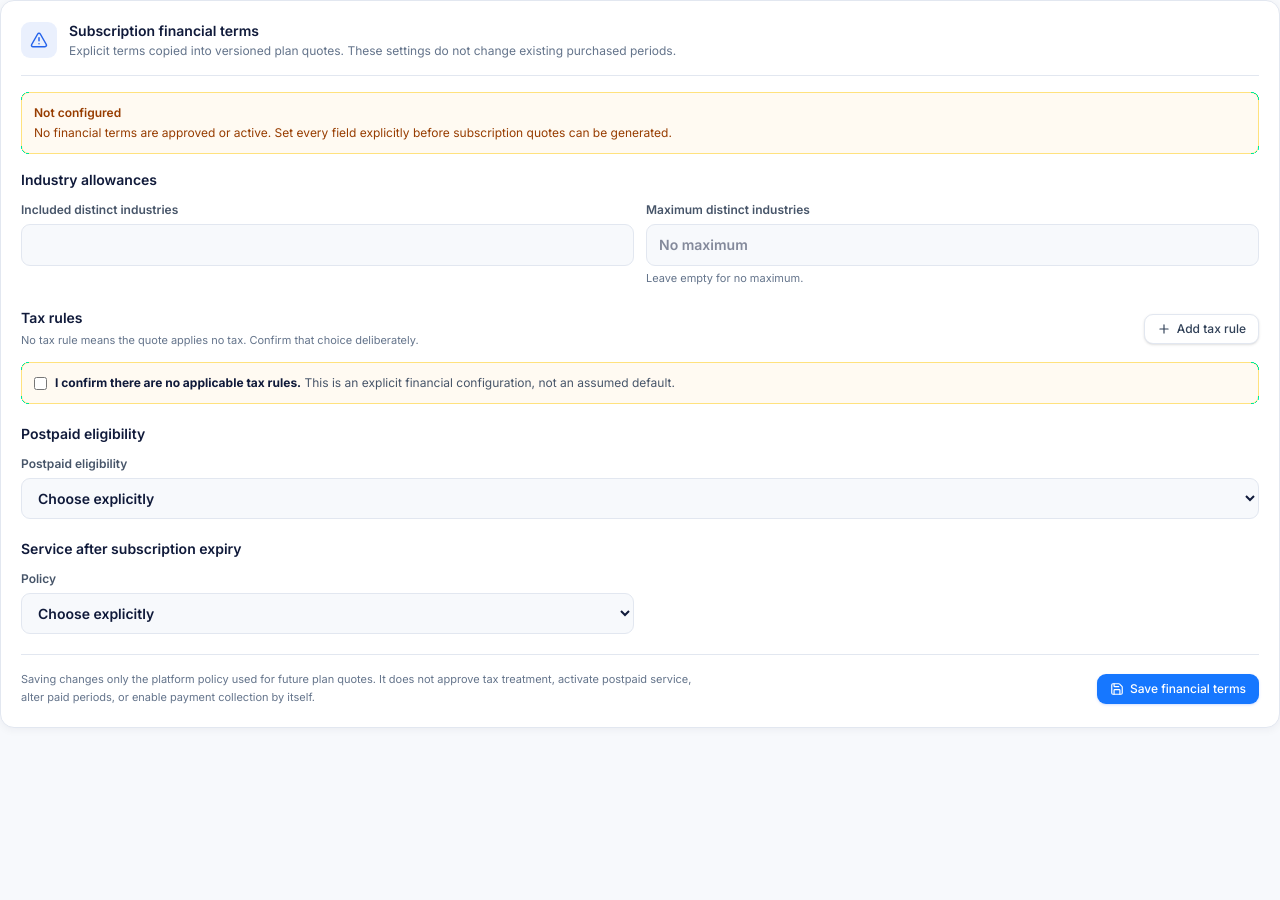
subscription terms policy editor › requires a finite exposure limit or explicit unlimited choice when postpaid is eligible
Check: the text "Not configured" is shown, box [34,105,121,120]
Type "1" into the number field labelled "Included distinct industries" at (328,245), box [21,224,634,266]
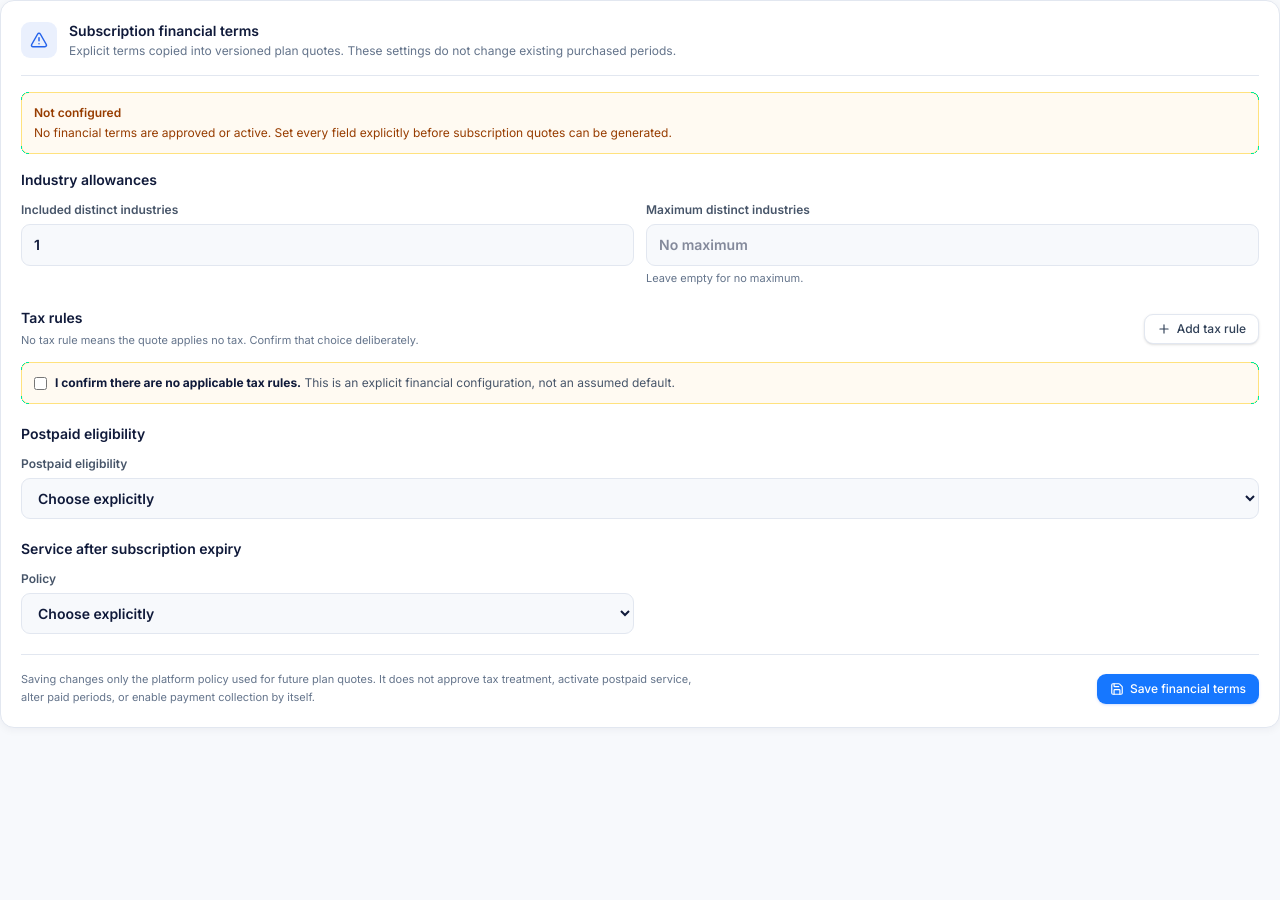
Select "Suspend at expiry" in the dropdown labelled "Policy" at (328,613), box [21,593,634,634]
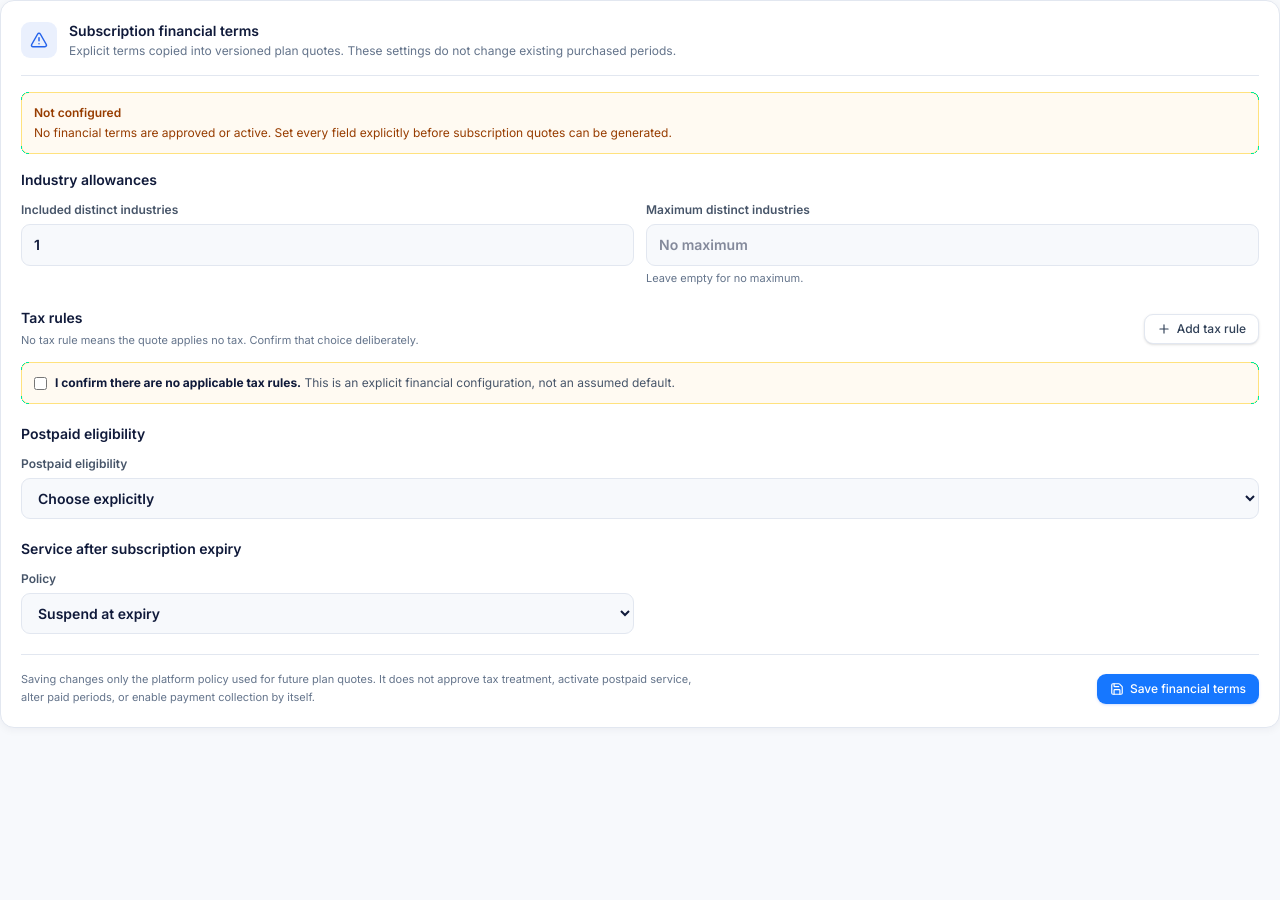
Select "Eligible" in the dropdown labelled "Postpaid eligibility" at (640,498), box [21,478,1259,519]
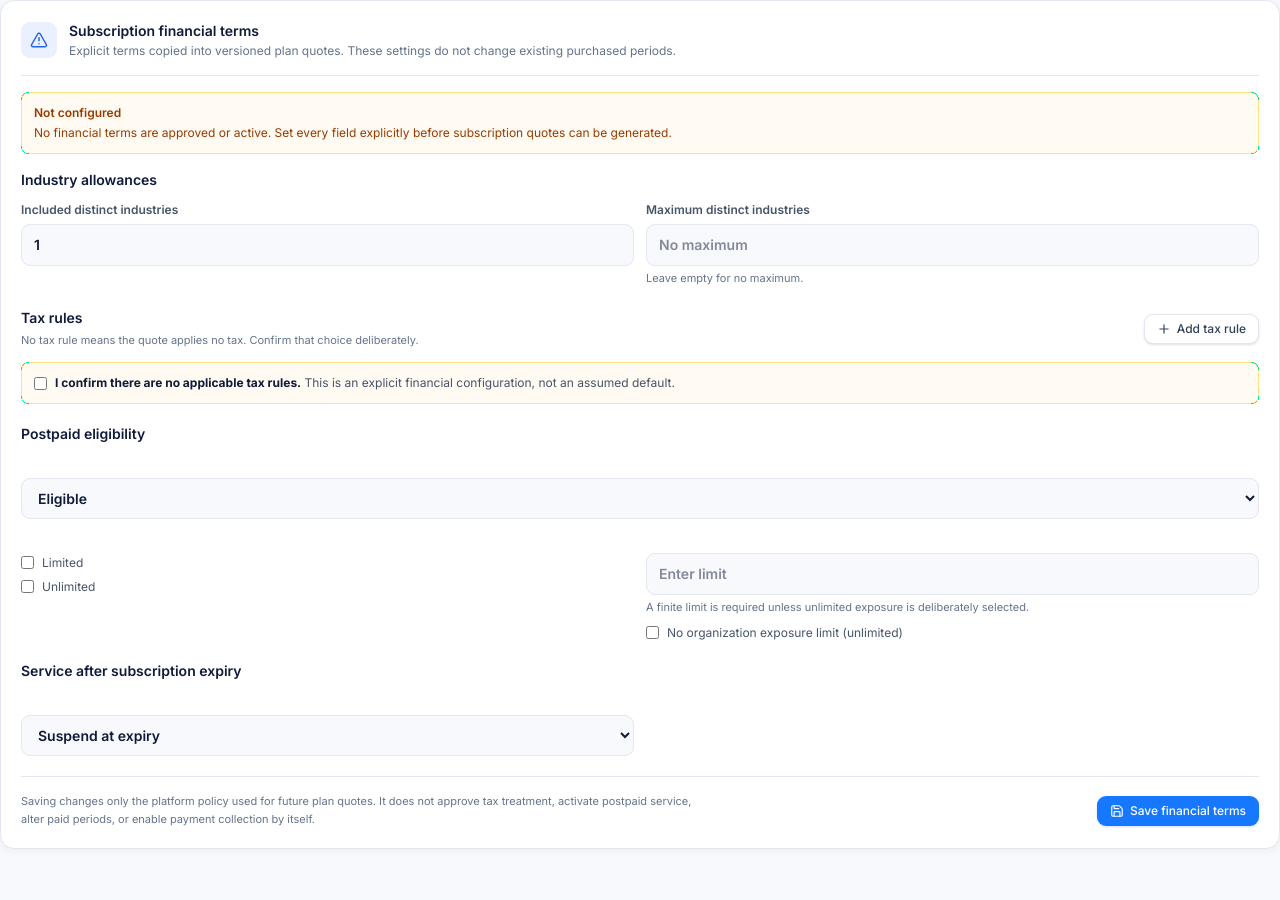
Click the checkbox labelled "limited" at (28,563), box [21,556,34,569]
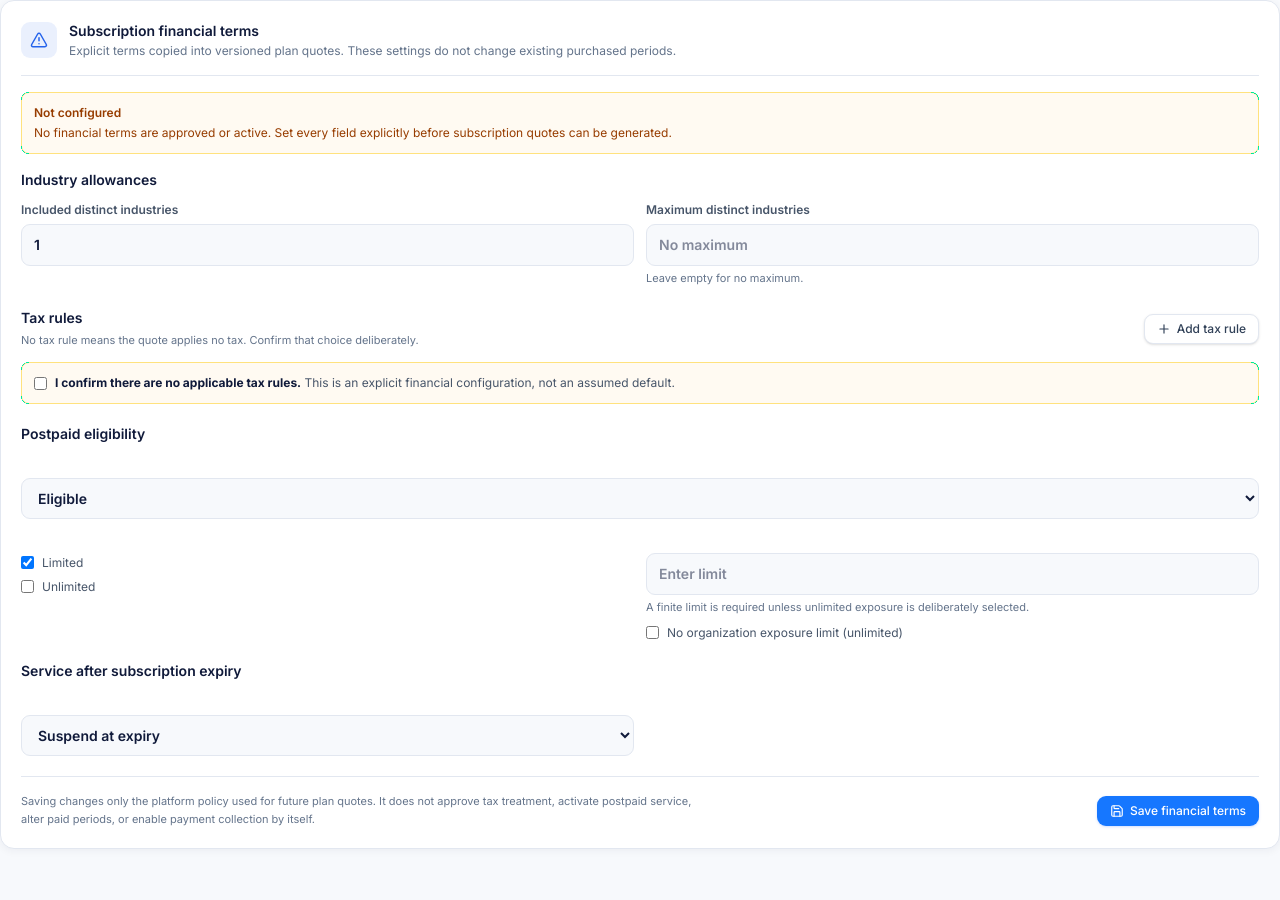
Click the checkbox labelled "I confirm there are no applicable tax rules" at (40,383), box [34,377,47,390]
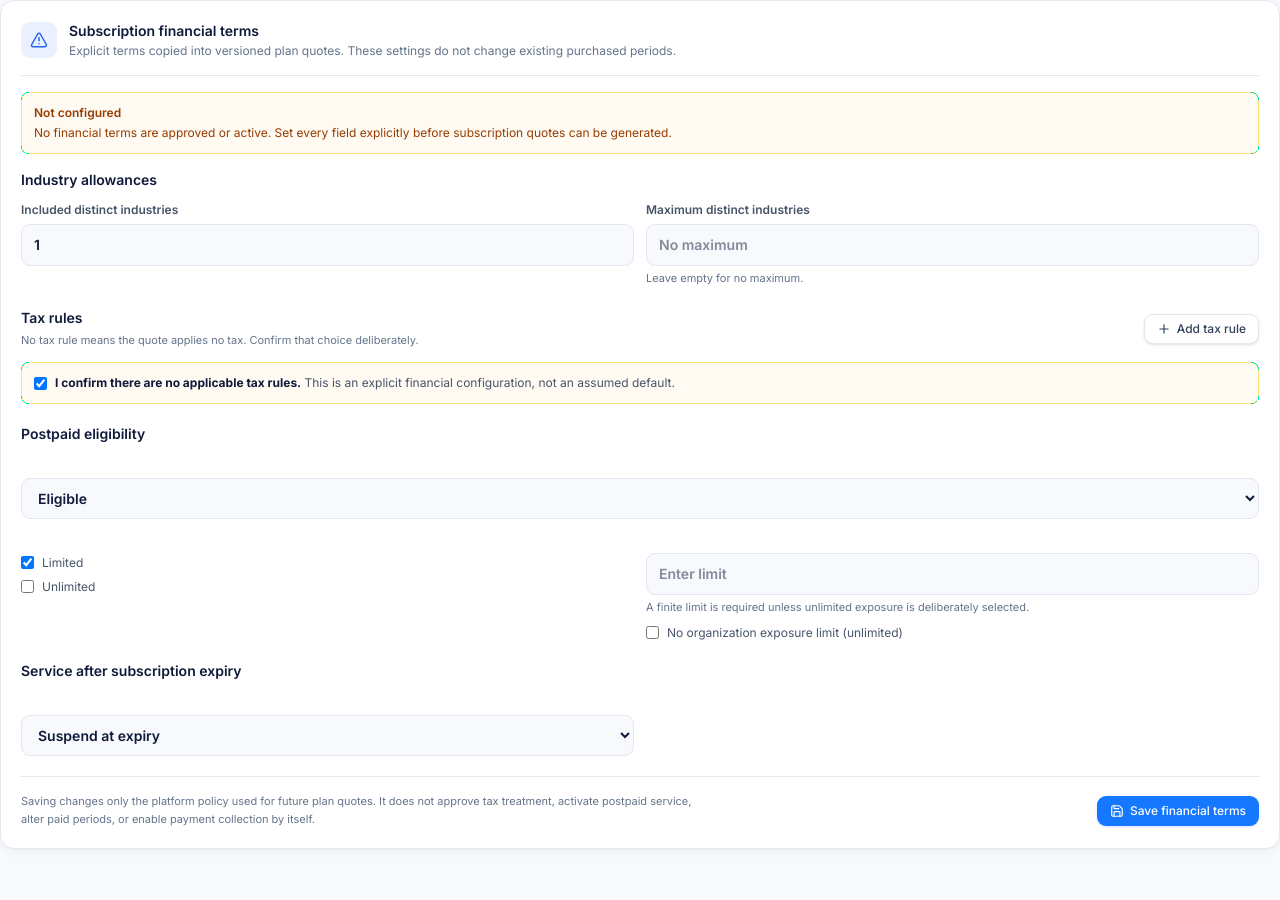
Click the button "Save financial terms" at (1178,810), box [1097,796,1259,826]
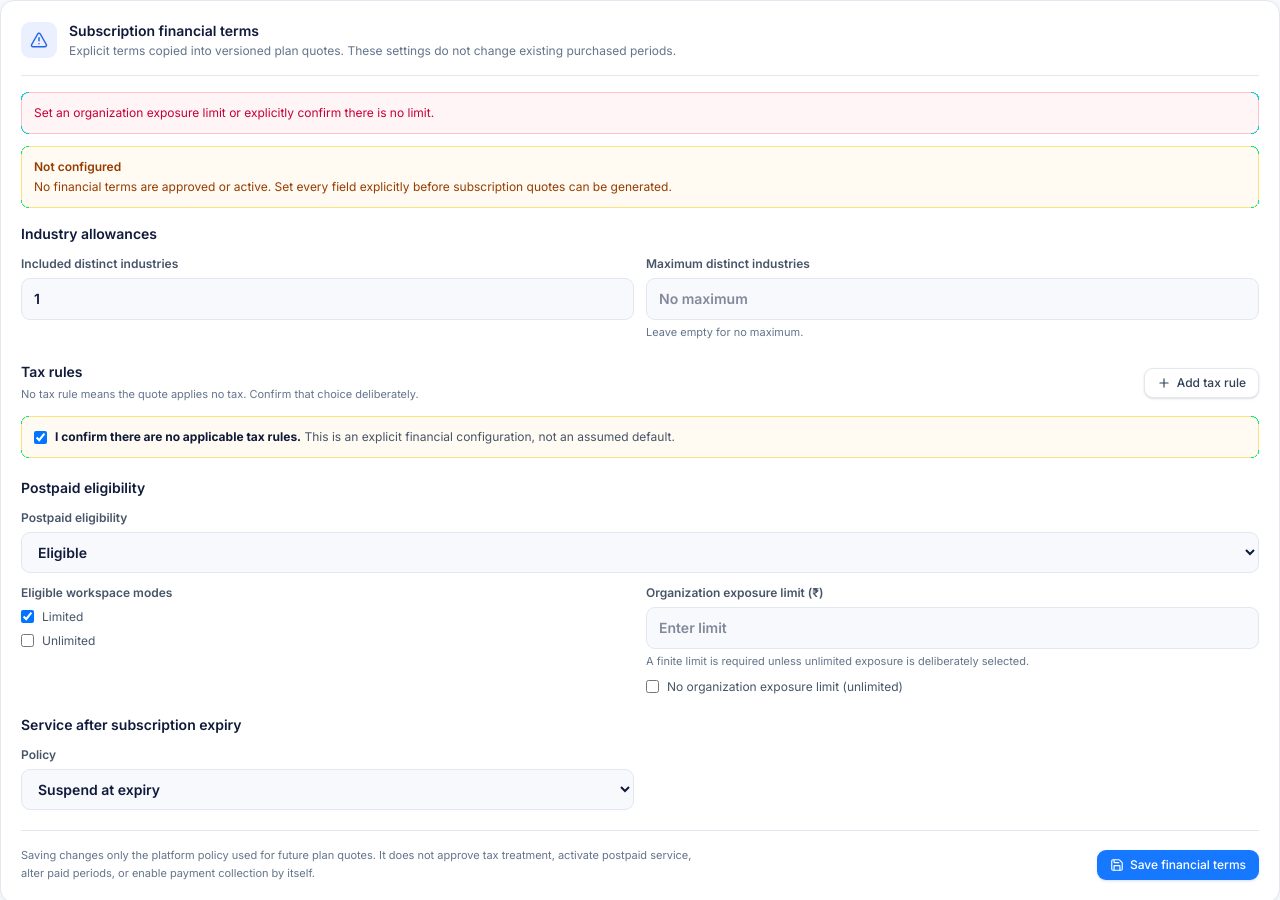
Check: the message reads "Set an organization exposure limit or explicitly confirm there is no limit.", box [34,105,434,120]
